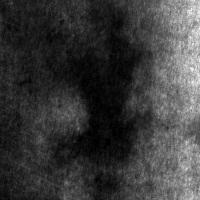patches: (12, 0, 168, 106), (61, 6, 140, 162)
